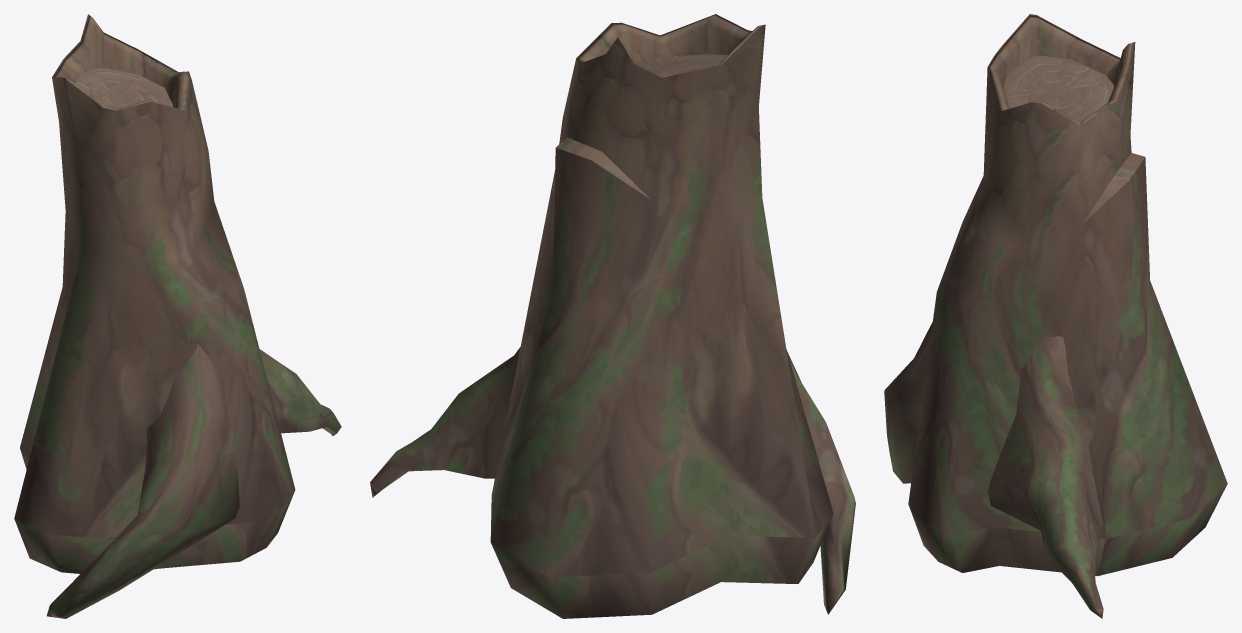
Rendered from SM_EastLands_Conifer_Straight_02_Stump.fbx.
3 views of the same model, side by side, from view 1: azimuth 30°, elevation 25°; view 2: azimuth 150°, elevation 25°; view 3: azimuth 270°, elevation 25° (orthographic). The views are drawn at different scales.
Visible parts, largest first — view 1: SM_EastLands_Conifer_Straight_02_Stump_LOD0; view 2: SM_EastLands_Conifer_Straight_02_Stump_LOD0; view 3: SM_EastLands_Conifer_Straight_02_Stump_LOD0.
Boxes of the visible parts, bbox=[...] form: SM_EastLands_Conifer_Straight_02_Stump_LOD0: bbox=[14, 14, 341, 618]; SM_EastLands_Conifer_Straight_02_Stump_LOD0: bbox=[370, 14, 855, 618]; SM_EastLands_Conifer_Straight_02_Stump_LOD0: bbox=[884, 14, 1227, 618].
Bounding box in the file's own units: 266 × 374 × 222.
